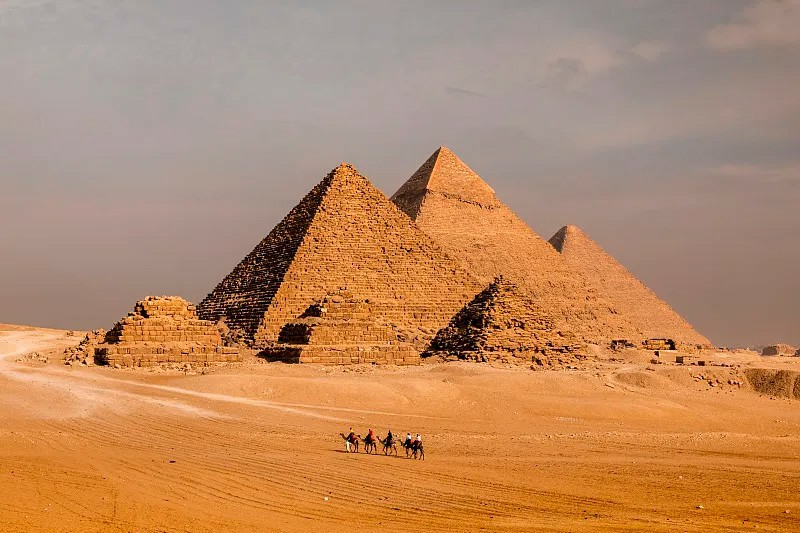Pyramid: (198, 162, 485, 351), (386, 147, 647, 347), (549, 224, 714, 351), (428, 275, 587, 363), (267, 290, 423, 367), (88, 294, 242, 368)
